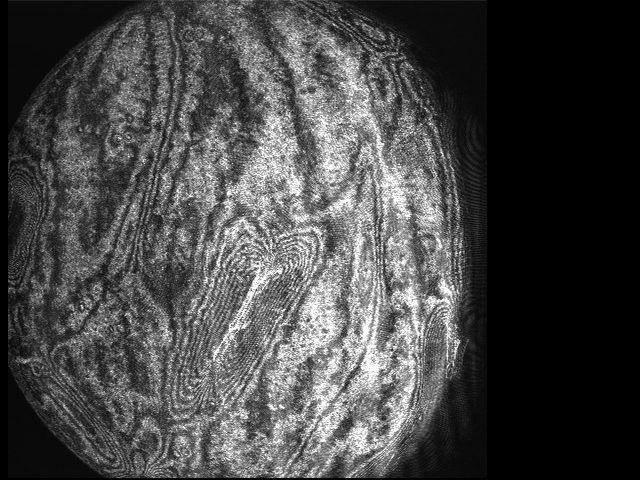plume: (165, 232, 319, 412)
